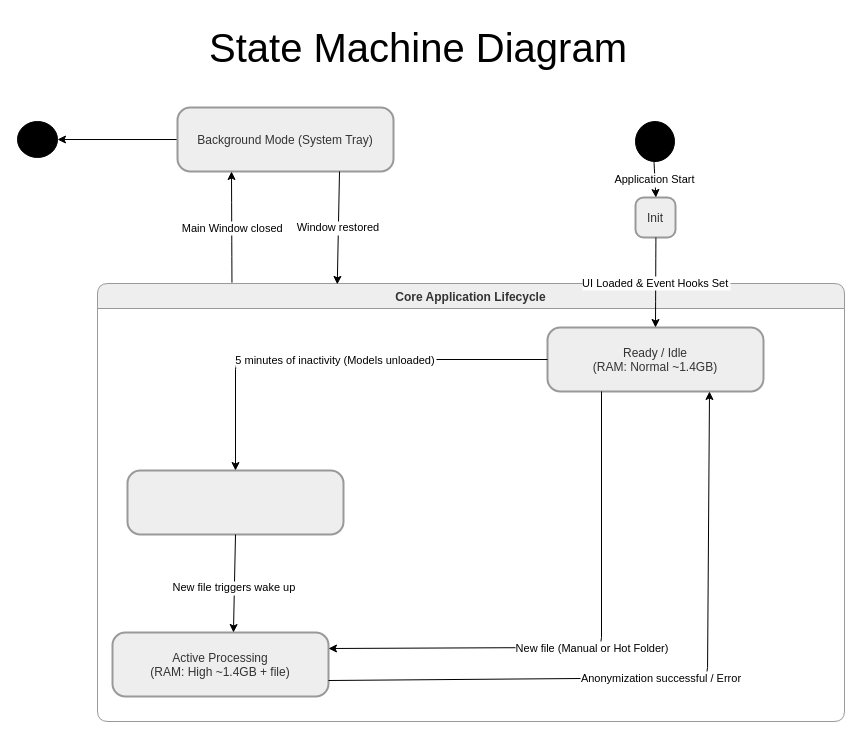
Some shapes in this 862 by 739 pixel diagram are drawn without their labels. The shapes that lost their labels are listed below. From the top down, each one's centre as x and y in pixels, then its label:
point 37,139: End
point 654,141: Start
point 235,502: Power Saving / Sleep (RAM: Minimum 0.4GB)
